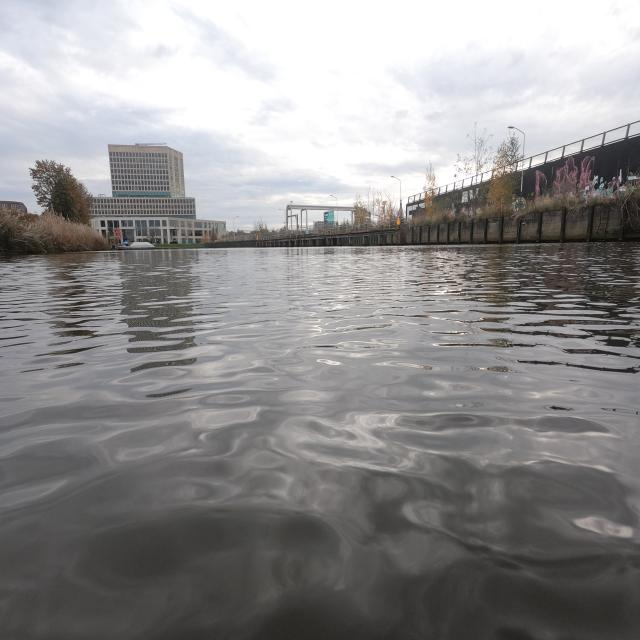boat: (130, 241, 154, 248)
reed: (0, 209, 109, 254)
sky: (14, 2, 638, 224)
wall: (408, 200, 638, 240), (221, 225, 428, 247)
water: (0, 243, 640, 640)
